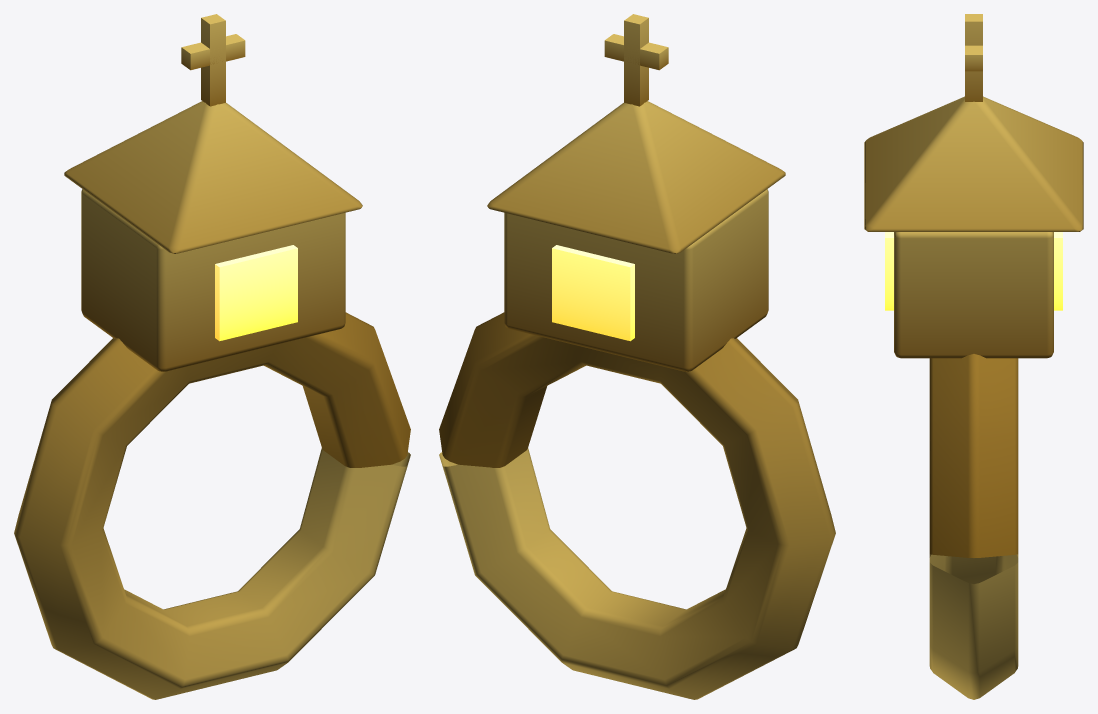
File: lg_reliquary_ring.glb
3 views of the same model, side by side, from view 1: azimuth 30°, elevation 25°; view 2: azimuth 150°, elevation 25°; view 3: azimuth 270°, elevation 25° (orthographic).
Parts seen in each view (by area): view 1: lg_reliquary_ring, lg_reliquary_ring_glow, lg_reliquary_ring_trim; view 2: lg_reliquary_ring, lg_reliquary_ring_glow, lg_reliquary_ring_trim; view 3: lg_reliquary_ring, lg_reliquary_ring_trim, lg_reliquary_ring_glow.
Part boxes in pixels (<box>): lg_reliquary_ring: <box>14,101,410,699</box>; lg_reliquary_ring_glow: <box>215,245,297,341</box>; lg_reliquary_ring_trim: <box>181,14,245,106</box>; lg_reliquary_ring: <box>439,101,835,699</box>; lg_reliquary_ring_glow: <box>552,245,634,341</box>; lg_reliquary_ring_trim: <box>604,14,668,106</box>; lg_reliquary_ring: <box>864,96,1083,699</box>; lg_reliquary_ring_trim: <box>965,14,982,101</box>; lg_reliquary_ring_glow: <box>885,232,1062,310</box>.
Bounding box in the file's own units: 0.5019 × 0.8099 × 0.2465.
